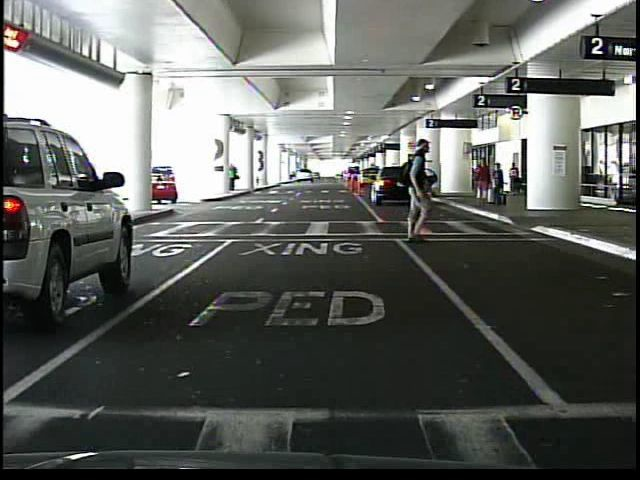person: (383, 144, 454, 245), (470, 158, 493, 203), (493, 162, 507, 206), (509, 162, 519, 193), (229, 164, 239, 193)
